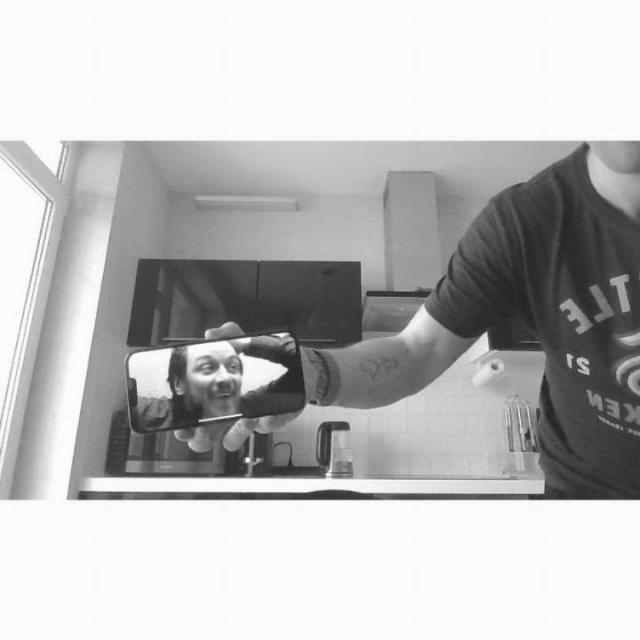fake: (120, 326, 312, 434)
